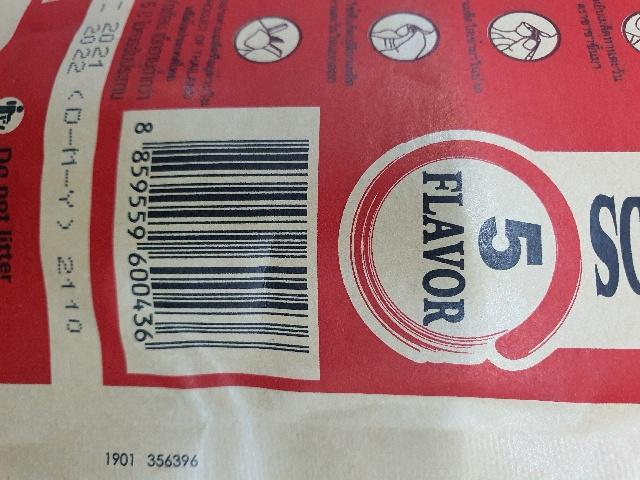Barcode: (115, 110, 316, 364)
